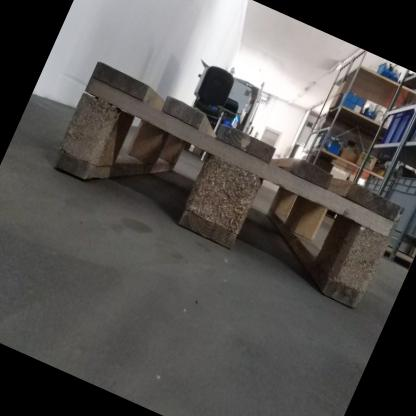BoxFace: (45, 53, 410, 319)
